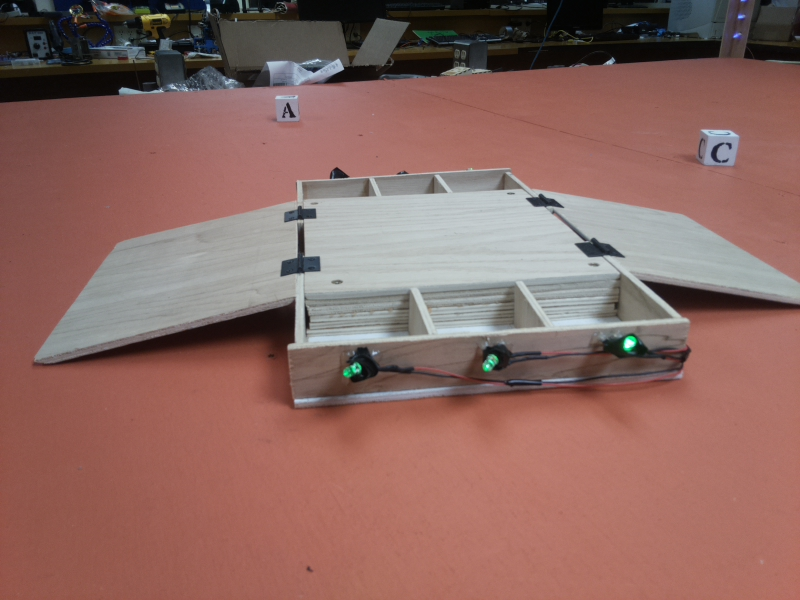blockA: (273, 92, 300, 123)
blockC: (694, 127, 746, 167)
corner: (714, 1, 757, 62)
side: (286, 275, 697, 414)
slope: (30, 182, 296, 370), (532, 189, 800, 303)
